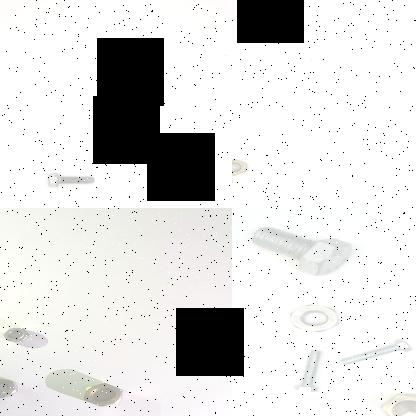Bolts: (244, 218, 366, 278), (336, 338, 416, 368), (286, 346, 328, 398), (41, 167, 100, 192), (374, 390, 416, 416)
NUTS: (282, 300, 342, 335), (79, 382, 126, 409), (0, 324, 31, 344), (0, 377, 21, 399), (232, 158, 248, 176)
